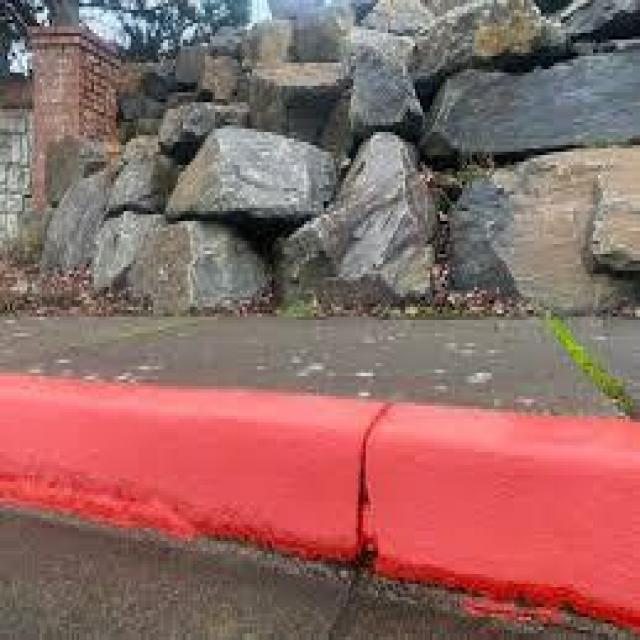curb: (1, 365, 377, 582), (366, 407, 640, 633)
